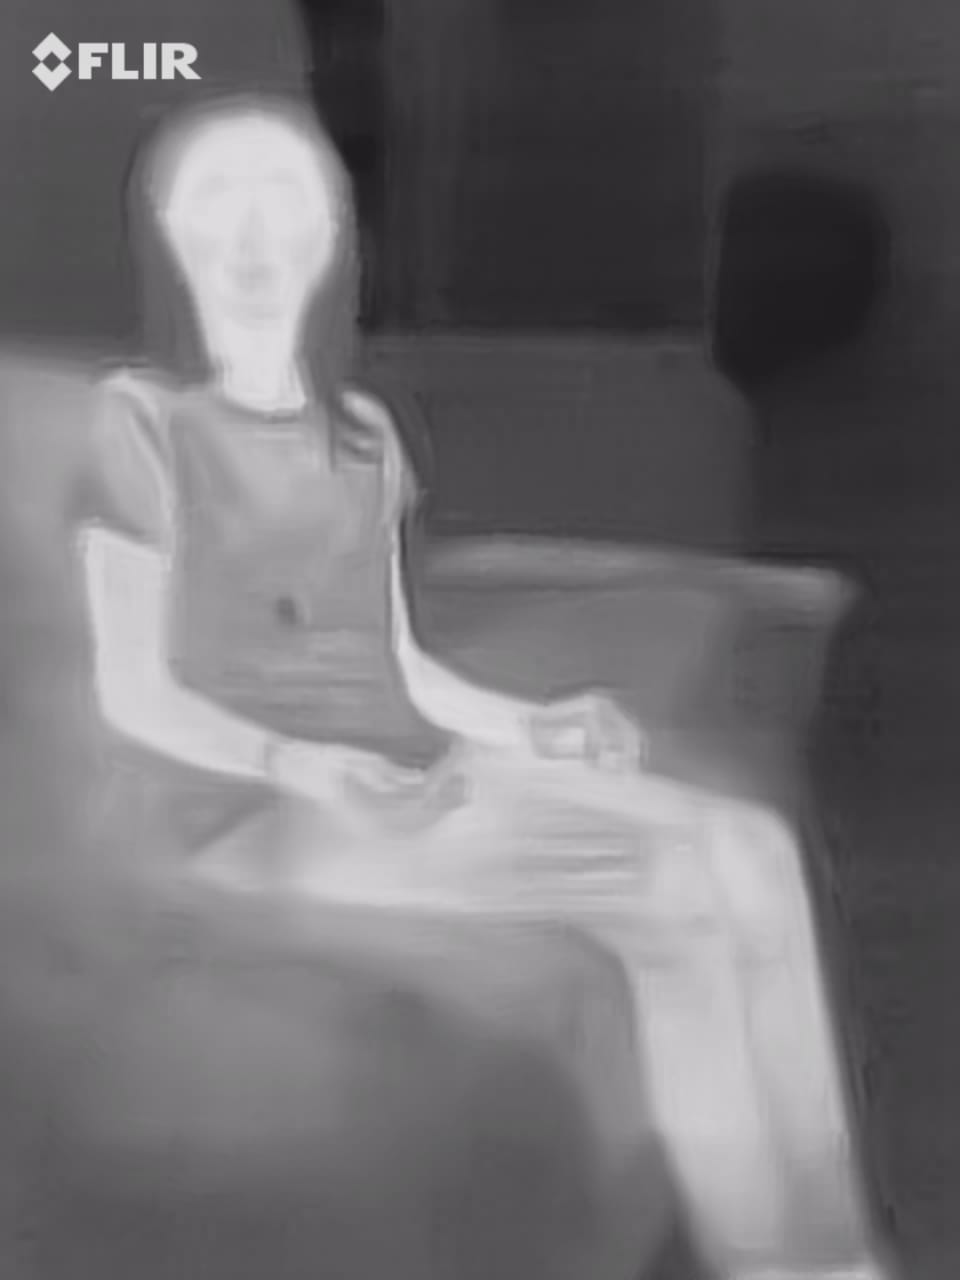head: (117, 88, 372, 402)
